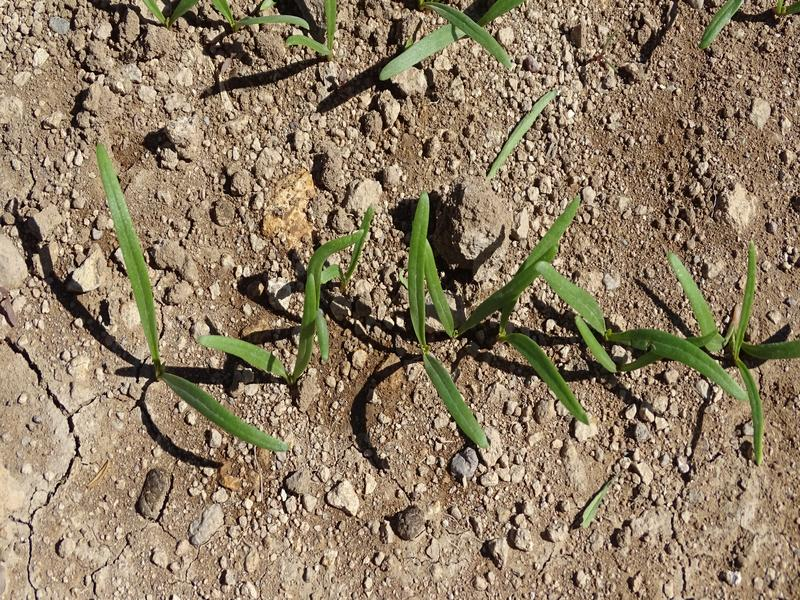Espinaca: (407, 191, 796, 462), (82, 138, 373, 456), (135, 1, 530, 77)
